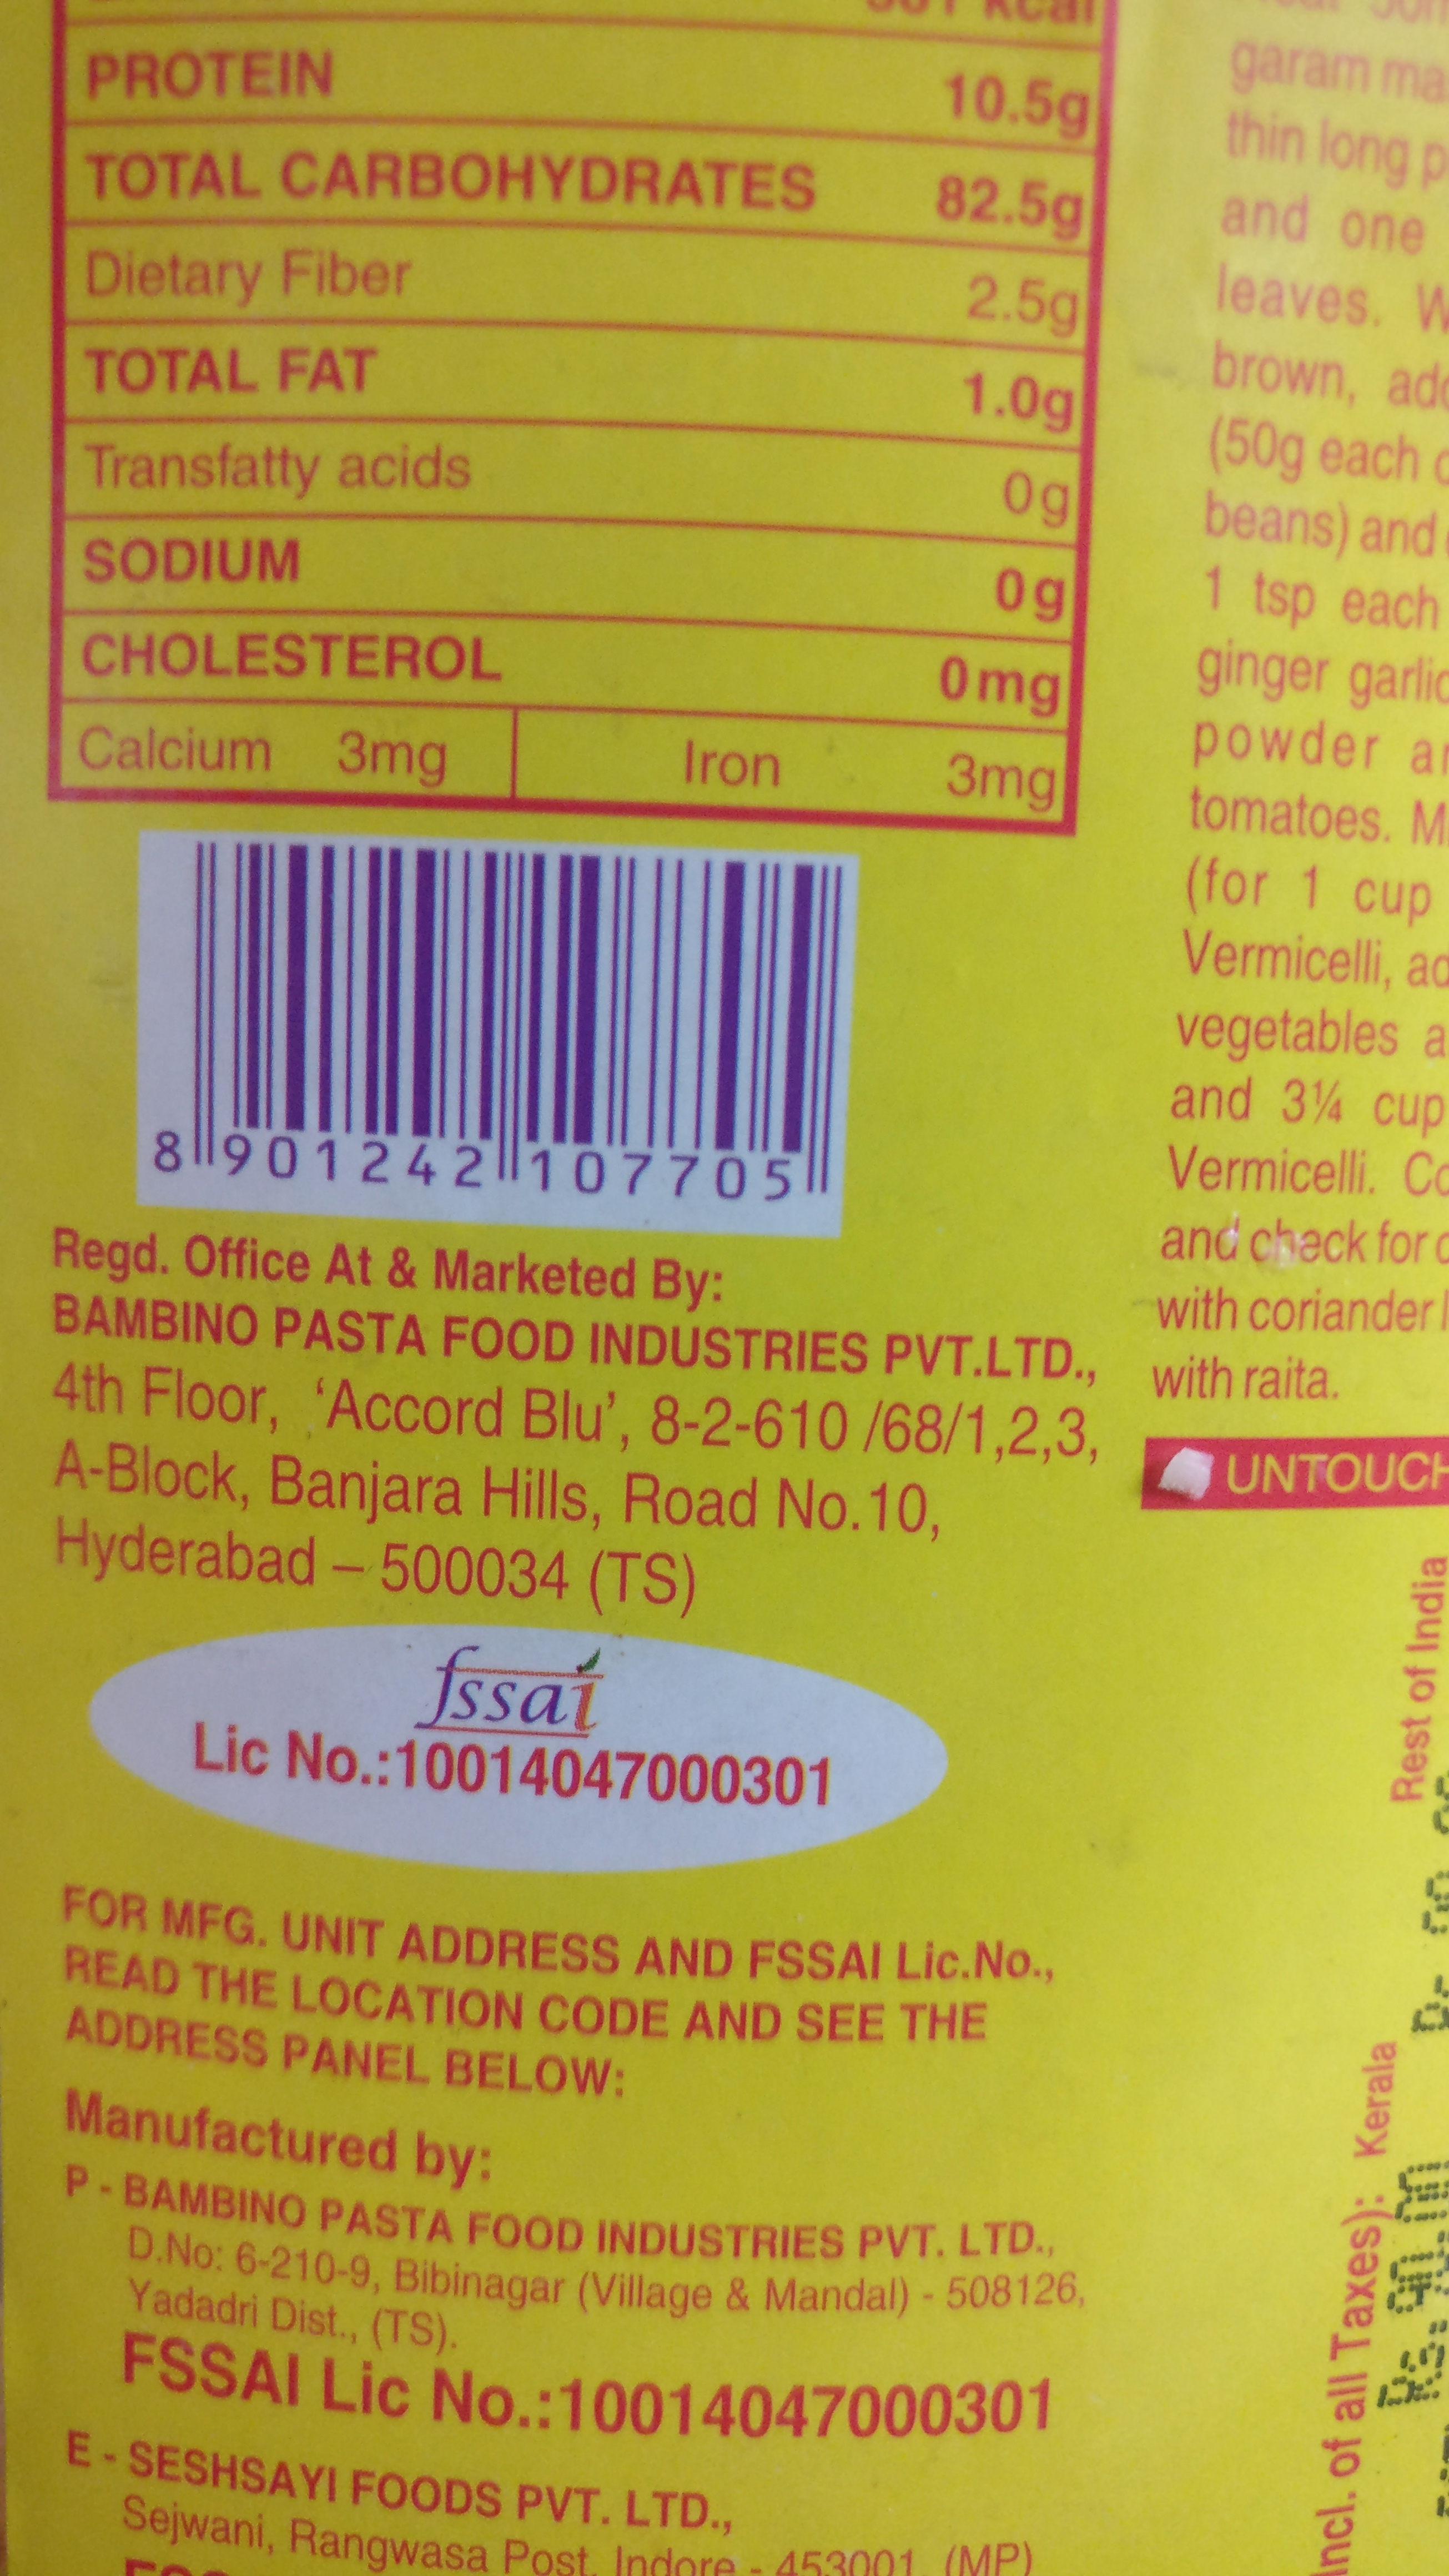barcode: (131, 824, 851, 1233)
